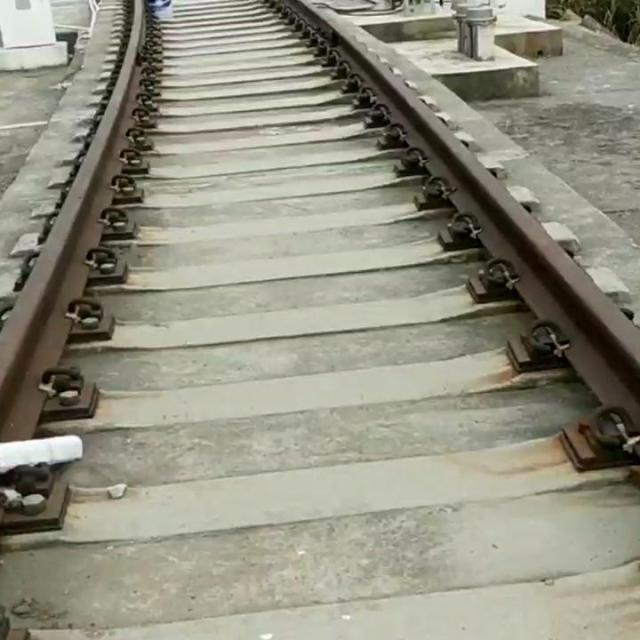rail: (278, 0, 640, 430), (0, 0, 144, 442)
